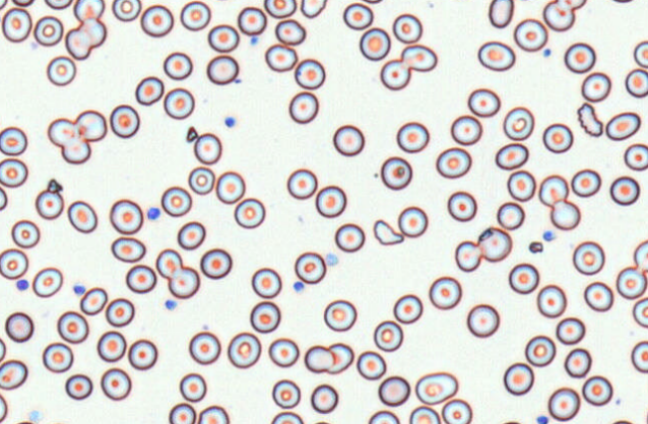PLT: (222, 115, 238, 129), (325, 251, 339, 267), (291, 280, 306, 294), (72, 284, 88, 297), (16, 279, 29, 293), (543, 229, 557, 242), (164, 299, 179, 311), (147, 206, 160, 219), (29, 411, 43, 422), (535, 414, 550, 424), (250, 34, 260, 45)
RBC: (47, 117, 91, 164), (65, 17, 106, 60), (414, 371, 458, 405), (477, 226, 512, 262), (227, 331, 261, 368), (109, 198, 143, 234), (35, 178, 64, 219), (477, 40, 515, 71), (547, 386, 580, 421), (513, 18, 548, 51), (572, 240, 605, 275), (435, 146, 471, 178), (188, 331, 221, 365), (466, 303, 499, 337), (1, 6, 32, 42), (56, 310, 89, 343), (428, 276, 461, 309), (140, 4, 173, 37), (380, 156, 412, 190), (502, 106, 534, 140), (400, 43, 437, 72), (74, 109, 107, 141), (168, 265, 200, 298), (294, 251, 326, 284), (323, 299, 356, 331), (396, 121, 429, 153), (160, 185, 192, 217), (332, 124, 364, 156), (100, 367, 131, 400), (542, 0, 575, 31), (524, 334, 555, 367), (199, 248, 232, 279), (503, 362, 534, 395), (249, 300, 280, 333), (377, 375, 410, 406), (359, 27, 390, 60), (536, 284, 566, 318), (215, 170, 245, 204), (109, 104, 139, 138), (605, 111, 640, 140), (581, 375, 613, 406), (508, 262, 539, 294), (397, 205, 428, 237), (179, 0, 211, 31), (233, 197, 265, 228), (163, 87, 194, 119), (315, 185, 346, 217), (450, 114, 482, 145), (288, 91, 319, 123), (616, 266, 646, 299), (538, 174, 568, 207), (67, 200, 97, 233), (206, 54, 239, 84), (467, 87, 500, 117), (42, 342, 73, 373), (32, 266, 63, 297), (286, 168, 317, 199), (294, 58, 325, 89), (564, 42, 595, 73), (542, 122, 573, 153), (380, 58, 410, 90), (96, 330, 126, 362), (127, 338, 157, 370), (264, 43, 297, 72), (550, 199, 580, 230), (33, 15, 63, 46), (46, 55, 76, 86), (268, 337, 299, 367), (373, 320, 403, 351), (251, 267, 281, 298), (334, 222, 365, 252), (447, 190, 477, 221), (609, 175, 640, 205), (581, 71, 611, 102), (506, 169, 535, 201), (193, 132, 222, 164), (495, 142, 528, 170), (110, 236, 145, 262), (356, 350, 386, 380), (583, 281, 613, 311), (392, 13, 422, 43), (125, 264, 156, 293), (570, 168, 601, 197), (207, 24, 239, 52), (555, 316, 585, 345), (135, 75, 164, 105), (105, 297, 134, 327), (393, 293, 422, 323), (155, 248, 183, 279), (0, 248, 28, 279), (310, 383, 338, 414), (5, 311, 33, 342), (342, 2, 373, 30), (454, 240, 481, 272), (304, 344, 333, 373), (11, 219, 40, 248), (271, 379, 300, 408), (163, 51, 192, 80), (237, 6, 266, 35), (0, 157, 28, 187), (177, 220, 205, 250), (0, 359, 27, 390), (564, 347, 591, 378), (274, 18, 305, 45), (187, 166, 215, 195), (79, 286, 107, 315), (496, 201, 524, 230), (61, 137, 91, 164), (179, 372, 206, 402), (0, 126, 27, 155), (64, 373, 93, 400), (441, 398, 472, 423), (488, 0, 514, 28), (623, 143, 648, 171), (625, 68, 648, 98), (73, 0, 104, 22), (111, 0, 141, 21), (168, 402, 196, 424), (263, 0, 296, 18), (197, 405, 229, 423), (631, 340, 648, 373), (409, 405, 440, 423), (632, 296, 648, 328), (633, 239, 648, 273), (367, 409, 400, 424), (300, 0, 327, 18), (270, 411, 304, 424), (633, 40, 648, 68), (557, 0, 586, 10), (43, 0, 72, 9), (0, 392, 8, 423), (0, 186, 7, 211), (11, 0, 35, 7), (606, 419, 638, 424), (0, 336, 6, 362), (498, 420, 524, 424), (11, 420, 36, 424), (359, 0, 384, 4), (310, 420, 334, 424), (607, 0, 637, 3), (43, 421, 70, 424), (0, 0, 8, 10), (645, 404, 648, 424), (209, 0, 237, 1), (447, 0, 474, 1), (514, 0, 540, 1)
Schistocyte: (575, 102, 604, 138), (373, 219, 404, 246), (330, 342, 354, 374)
